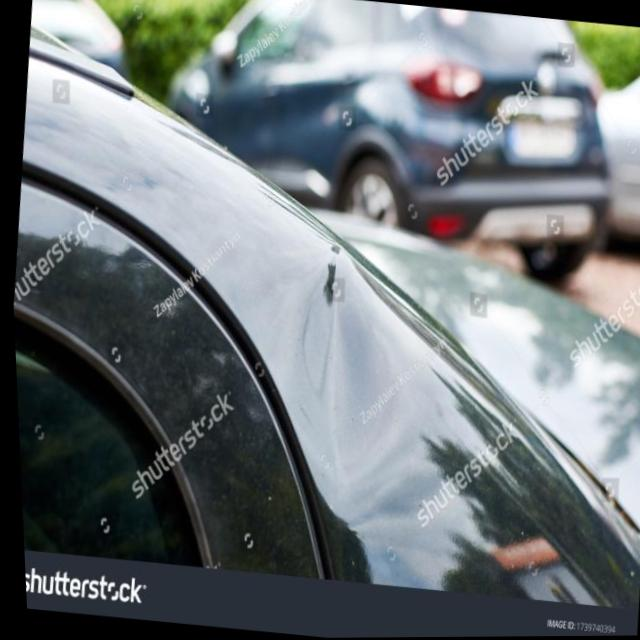Dent: (273, 252, 373, 397)
